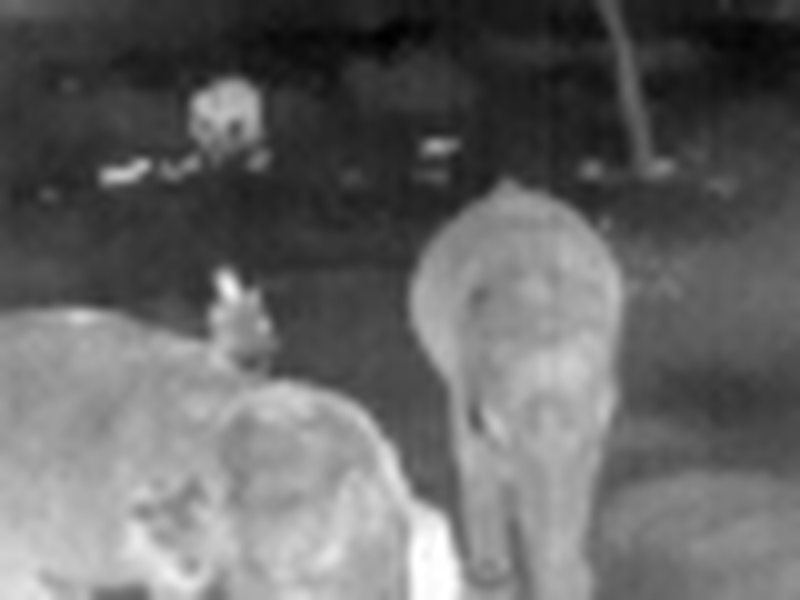elephant: (8, 173, 672, 600), (145, 74, 272, 167)
